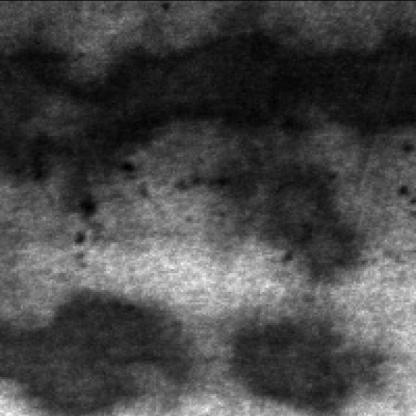patches: (83, 9, 416, 148), (4, 46, 154, 210), (4, 293, 198, 416), (196, 152, 364, 287), (235, 320, 391, 416)
